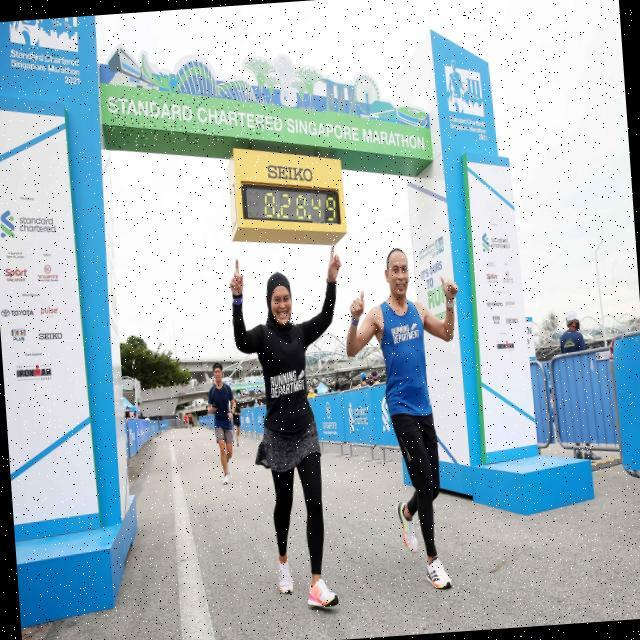Standard Chartered: (106, 84, 283, 150), (10, 43, 79, 73), (0, 204, 55, 239), (348, 399, 369, 432), (482, 231, 510, 253), (449, 113, 485, 130), (381, 397, 391, 433)
